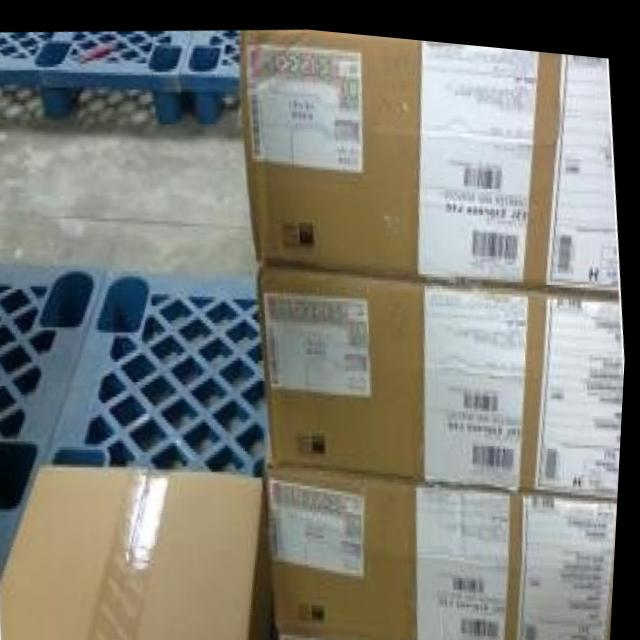box: (238, 24, 623, 283), (260, 259, 627, 490), (272, 461, 622, 640), (4, 462, 282, 640), (283, 624, 452, 640)
